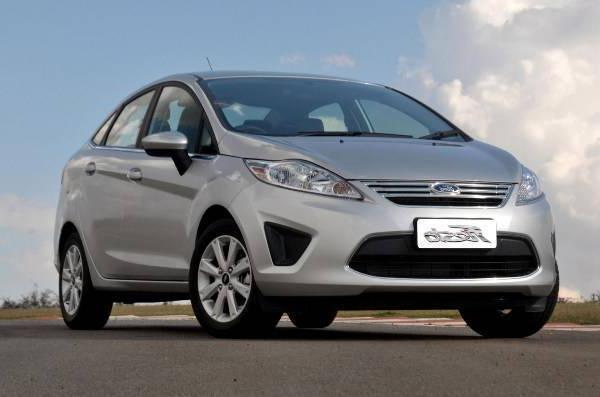Car: (40, 50, 574, 351)
